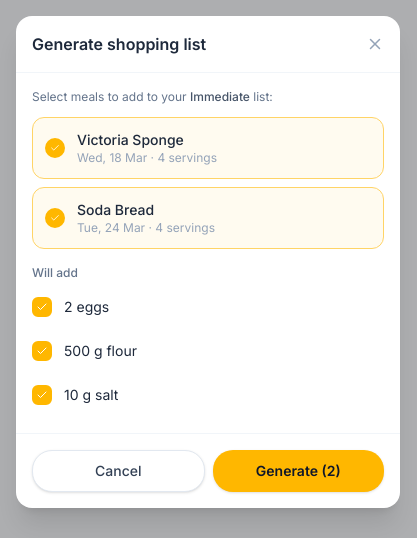
Test: GenerateListModal › cannot generate with every item unticked
Click the checkbox labelled "2 eggs". click: (87, 306)
box: [32,285,384,329]
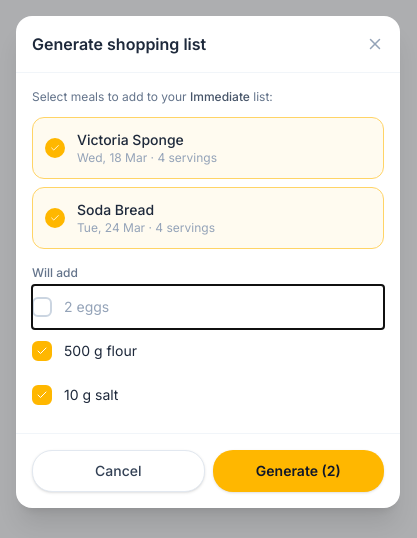
Click the checkbox labelled "500 g flour". click: (100, 350)
box: [32,329,384,373]
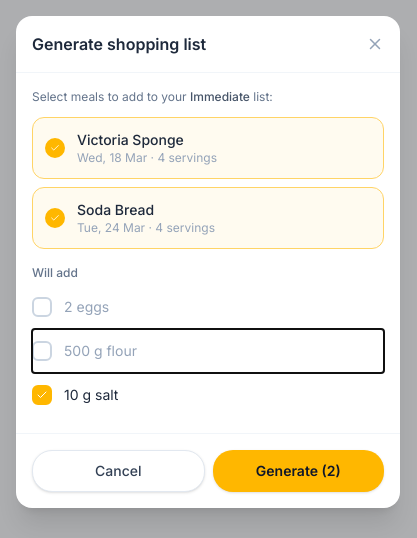
Click the checkbox labelled "10 g salt". click: (91, 394)
box: [32,373,384,417]
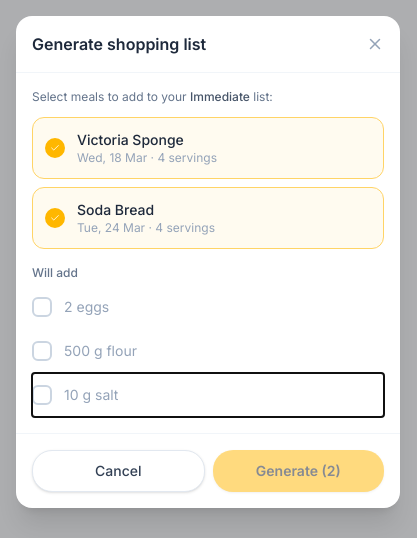
Expected: the button "Generate (2)" is disabled, [213,450,384,492]
